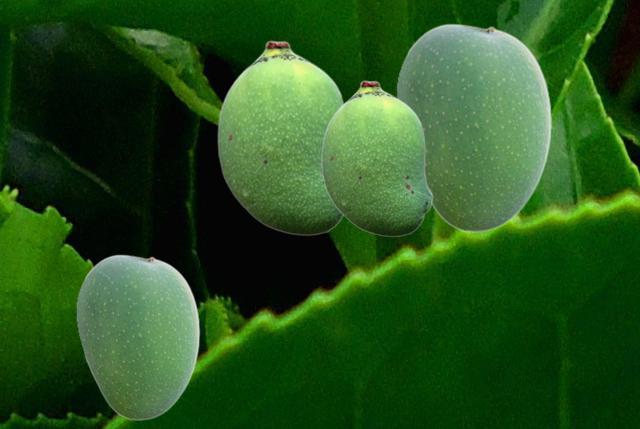green_mango: (396, 23, 551, 231), (217, 40, 344, 235), (76, 254, 199, 419), (321, 80, 432, 236)
